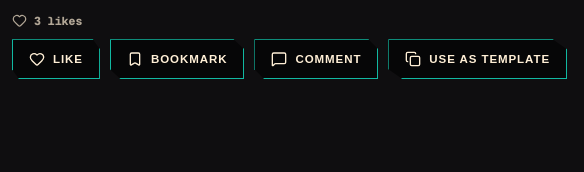
PublicHeroActions › rolls back the optimistic like and shows a session message on 401
Click the button with aria-label "Like Arc Light" at (56, 59), box [12, 39, 100, 79]
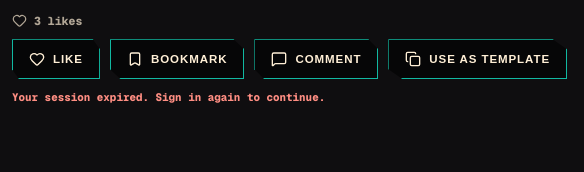
Expected: the element with test id "public-hero-like-count" reads "3 likes", [34, 13, 82, 28]
Now the message reads "Your session expired. Sign in again to continue.", box [12, 90, 325, 104]
